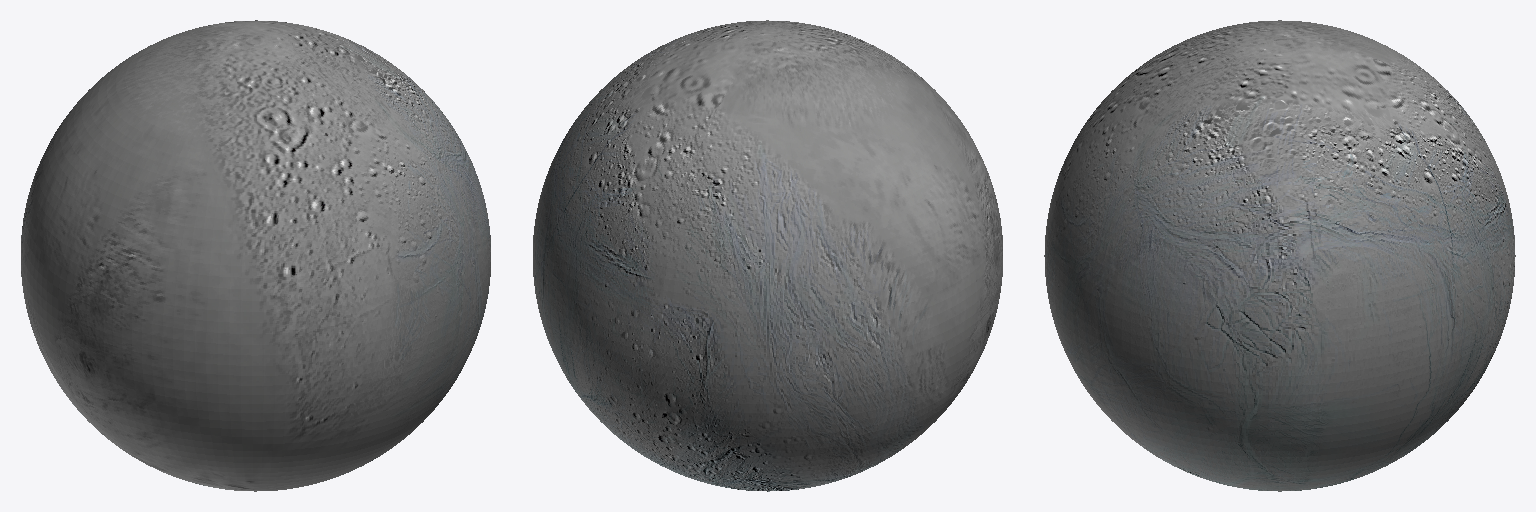
3 views of the same model, side by side, from view 1: azimuth 30°, elevation 25°; view 2: azimuth 150°, elevation 25°; view 3: azimuth 270°, elevation 25° (orthographic).
Parts seen in each view (by area): view 1: earth_Sphere; view 2: earth_Sphere; view 3: earth_Sphere.
Boxes of the visible parts, x1=… form: earth_Sphere: x1=21, y1=20, x2=490, y2=491; earth_Sphere: x1=533, y1=20, x2=1002, y2=491; earth_Sphere: x1=1044, y1=20, x2=1515, y2=491.
Size of the model in its own units: 2 by 2 by 2.
Materials: 1 (1 with a texture image).